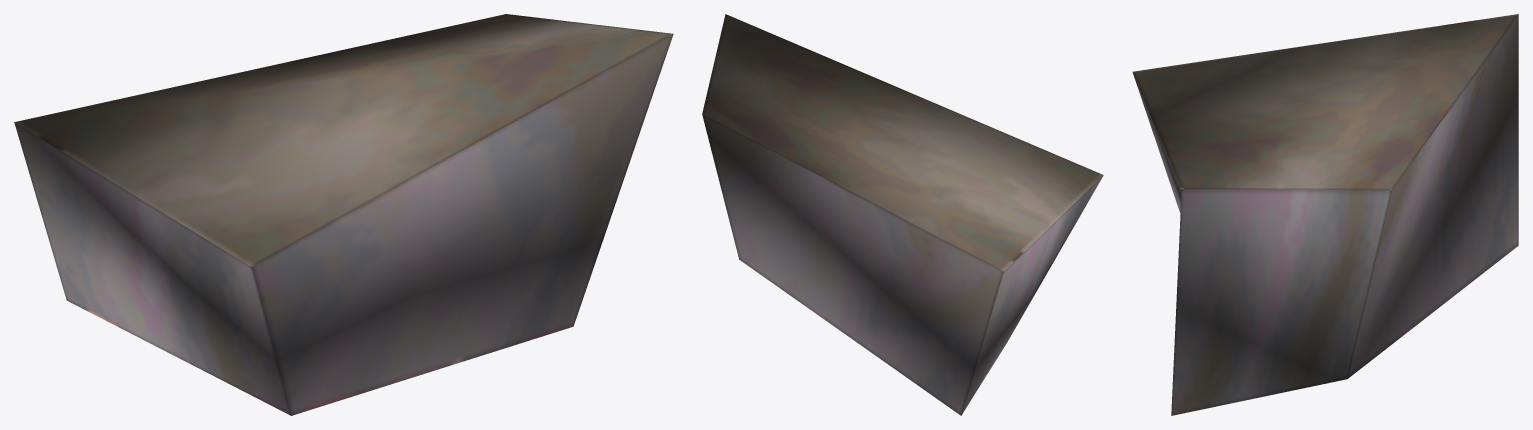
3 views of the same model, side by side, from view 1: azimuth 30°, elevation 25°; view 2: azimuth 150°, elevation 25°; view 3: azimuth 270°, elevation 25° (orthographic). The views are drawn at different scales.
Parts seen in each view (by area): view 1: T1L1M002_9; view 2: T1L1M002_9; view 3: T1L1M002_9.
Part boxes in pixels (x1=…): T1L1M002_9: x1=14, y1=14, x2=673, y2=415; T1L1M002_9: x1=702, y1=14, x2=1103, y2=415; T1L1M002_9: x1=1132, y1=14, x2=1518, y2=415.
Bounding box in the file's own units: 0.2334 × 0.1357 × 0.1455.
